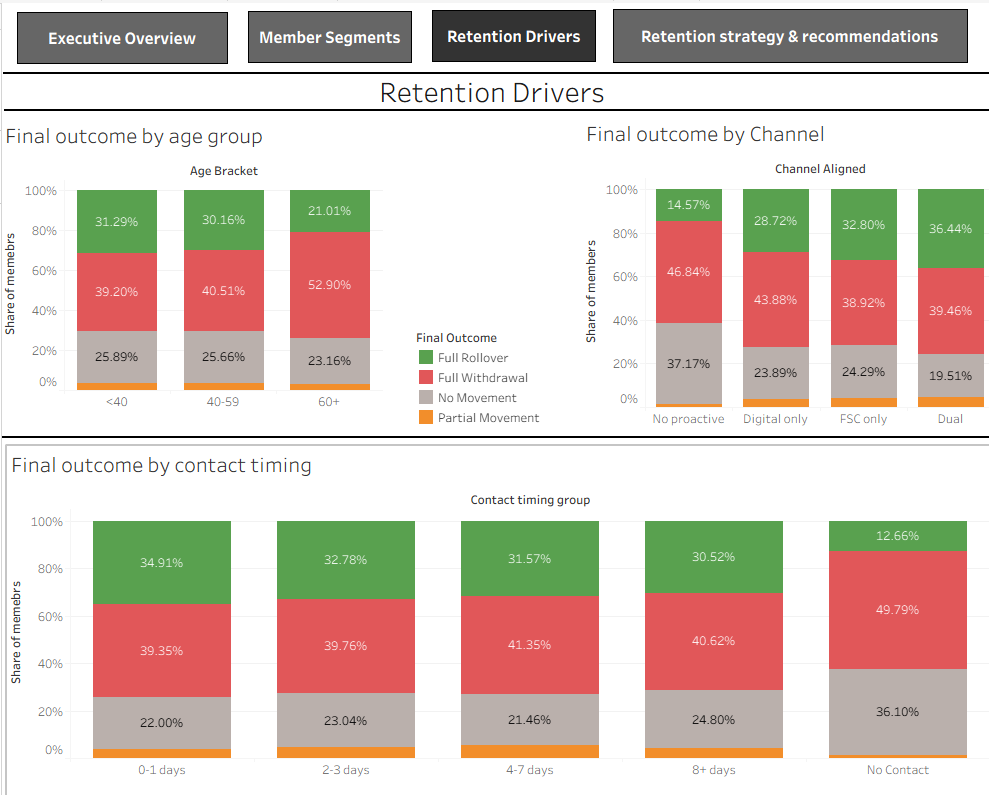

This screenshot's page, from the dashboard's own definition file:
{"tool":"tableau","page":{"name":"Retention Drivers","canvas":[1000,800],"ordinal":2},"visuals":[{"type":"dashboard-object","box":[611,6,355,54]},{"type":"dashboard-object","box":[430,7,164,52]},{"type":"dashboard-object","box":[246,8,164,52]},{"type":"dashboard-object","box":[15,9,211,52]},{"type":"text","box":[1,68,978,40]},{"type":"blank","box":[1,69,999,2]},{"type":"blank","box":[2,106,999,2]},{"type":"worksheet","title":"Final outcome by Channel","mark":"Automatic","cols":["channel_aligned"],"box":[580,112,413,332]},{"type":"legend","title":"Final outcome by age group","param":"[federated.19ewrkh1tpp5ff1epl4o61ambgtl].[none:final_outcome:nk]","box":[414,326,140,98]},{"type":"blank","box":[0,433,999,2]},{"type":"worksheet","title":"Final outcome by contact timing","mark":"Automatic","cols":["Calculation_1211388761341963"],"box":[5,443,983,352]}]}

Visuals, with their boxes in screenshot pixels (x1, y1, x2, y2), scaled from the page's 1000x800 canvas onto the 989x795 screenshot:
dashboard-object: region(604, 6, 955, 60)
dashboard-object: region(425, 7, 587, 59)
dashboard-object: region(243, 8, 405, 60)
dashboard-object: region(15, 9, 224, 61)
text: region(1, 68, 968, 107)
blank: region(1, 69, 988, 71)
blank: region(2, 105, 988, 107)
"Final outcome by Channel" worksheet: region(574, 111, 982, 441)
"Final outcome by age group" legend: region(409, 324, 548, 421)
blank: region(0, 430, 988, 432)
"Final outcome by contact timing" worksheet: region(5, 440, 977, 790)
